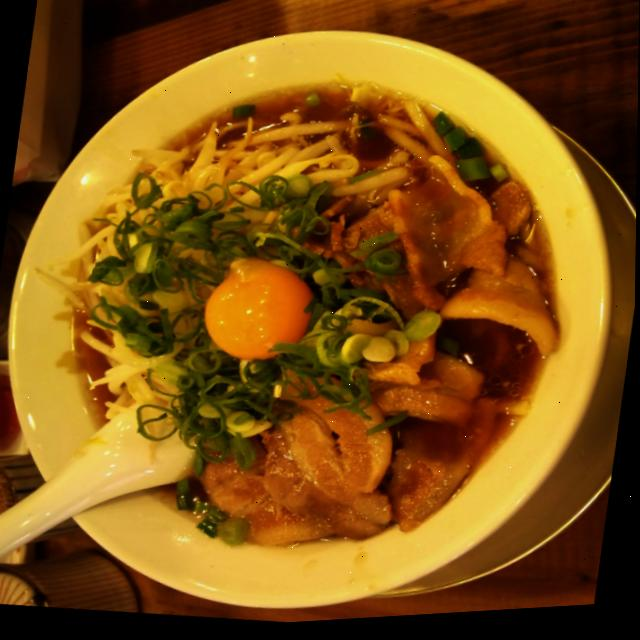面条主食: (0, 1, 620, 640)
